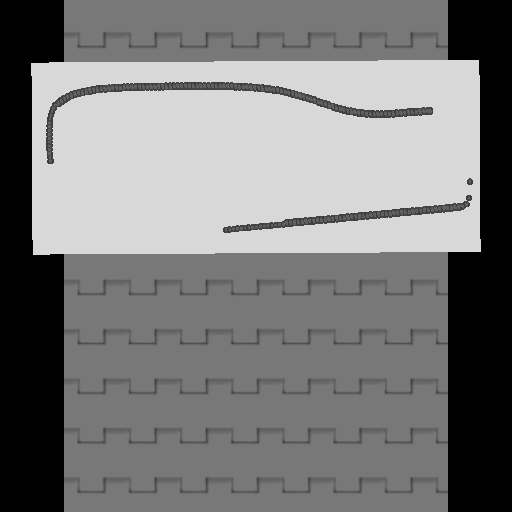Defect: (41, 160, 225, 237)
